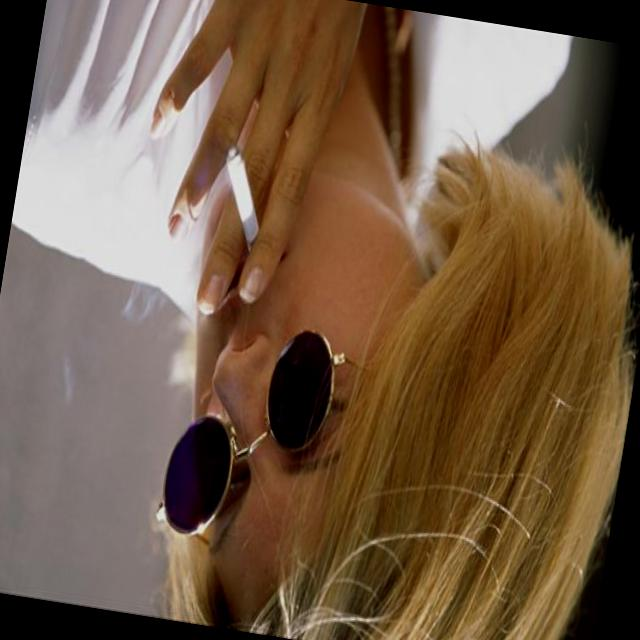smoke: (204, 136, 283, 274)
